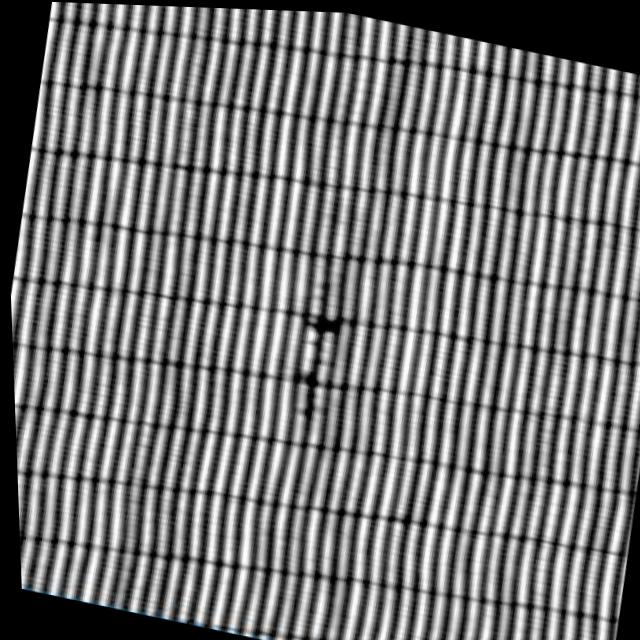Stitch: (268, 284, 358, 425)
